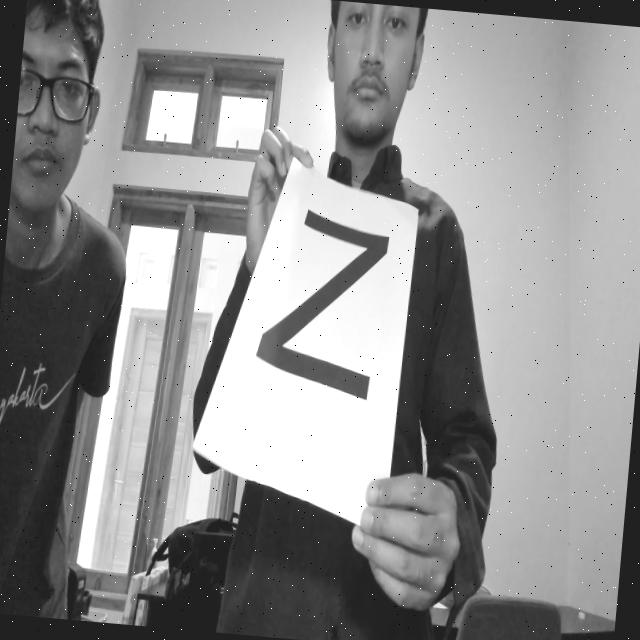z: (249, 182, 398, 409)
